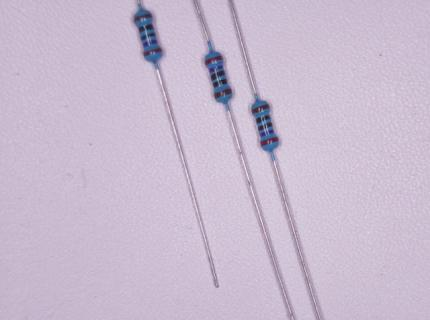Black band: (211, 70, 226, 81), (256, 114, 271, 124), (213, 78, 228, 88), (140, 32, 156, 41), (138, 24, 154, 33), (258, 122, 273, 131)
Brown band: (213, 88, 233, 100), (251, 103, 270, 115), (134, 13, 153, 22)
Red band: (143, 47, 162, 57), (260, 137, 279, 147), (205, 55, 223, 65)
Violet band: (259, 129, 275, 138), (209, 65, 224, 74), (143, 39, 158, 48)
